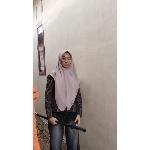Pedang: (35, 110, 91, 134)
